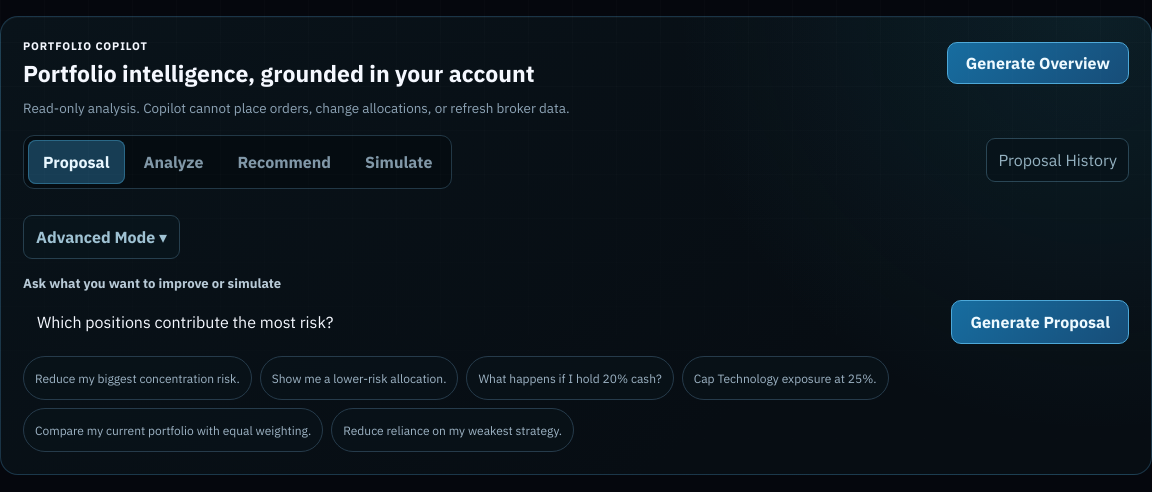
it: PortfolioCopilotPanel › shows suggested questions and validates an empty question
The width and height of the screenshot is (1152, 492).
Click the button "Analyze" at (173,162), box [128, 140, 218, 184]
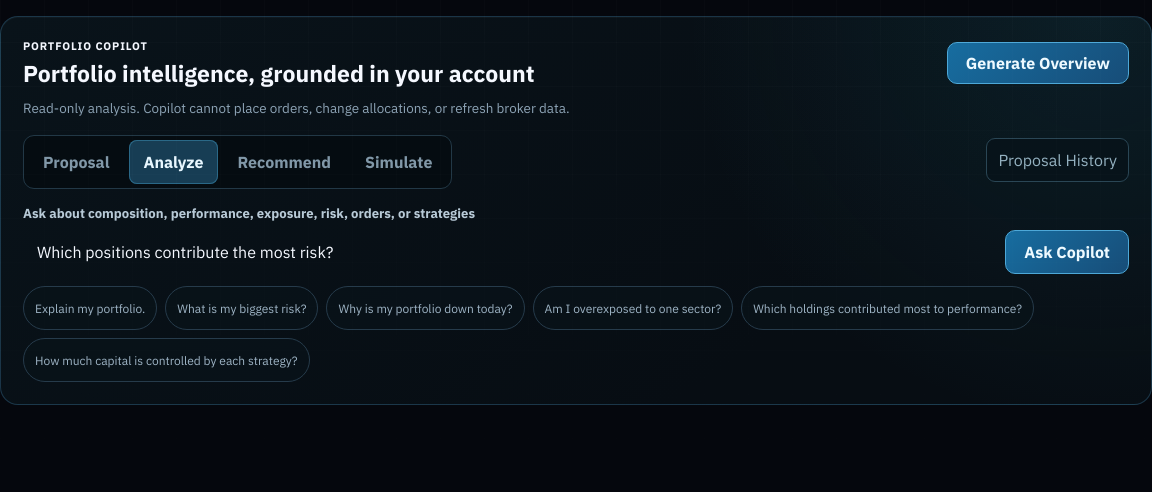
expect the button "What is my biggest risk?" is shown: met, box [165, 286, 318, 330]
Click the button "Ask Copilot" at (1067,252), box [1005, 230, 1129, 274]
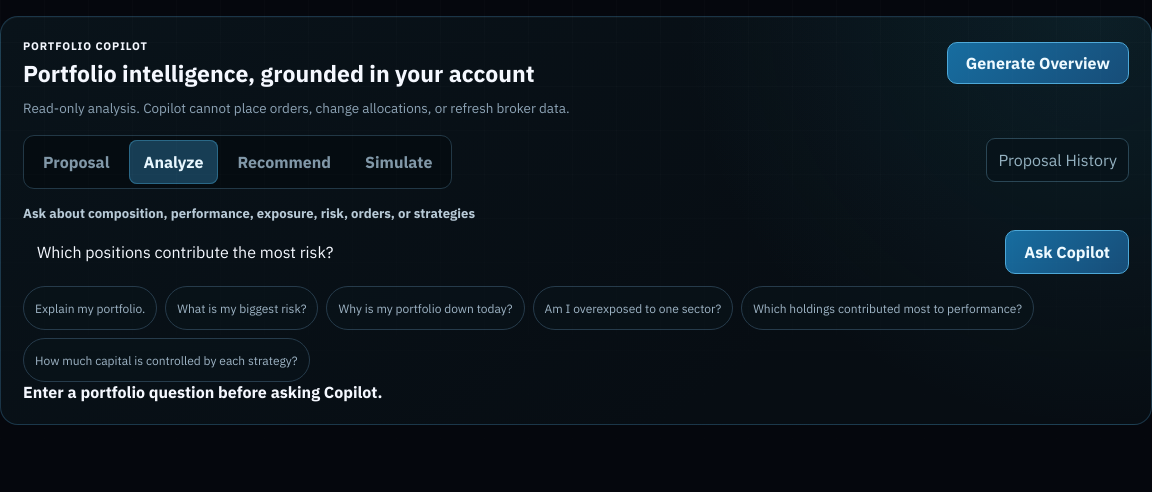
expect the text "Enter a portfolio question before asking Copilot." is shown: met, box [23, 382, 382, 402]
